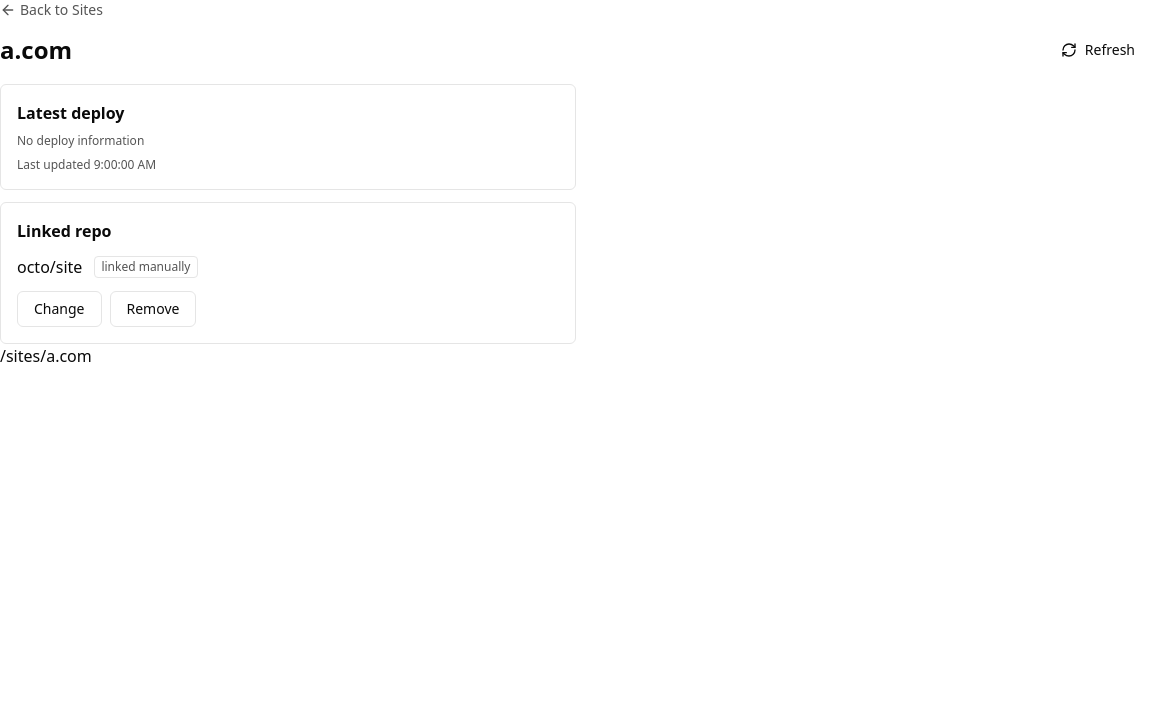
Scenario: SiteDetailPage › Remove asks first; "Keep link" removes nothing
Click the button "Remove" at x=153, y=309, box [110,291,196,327]
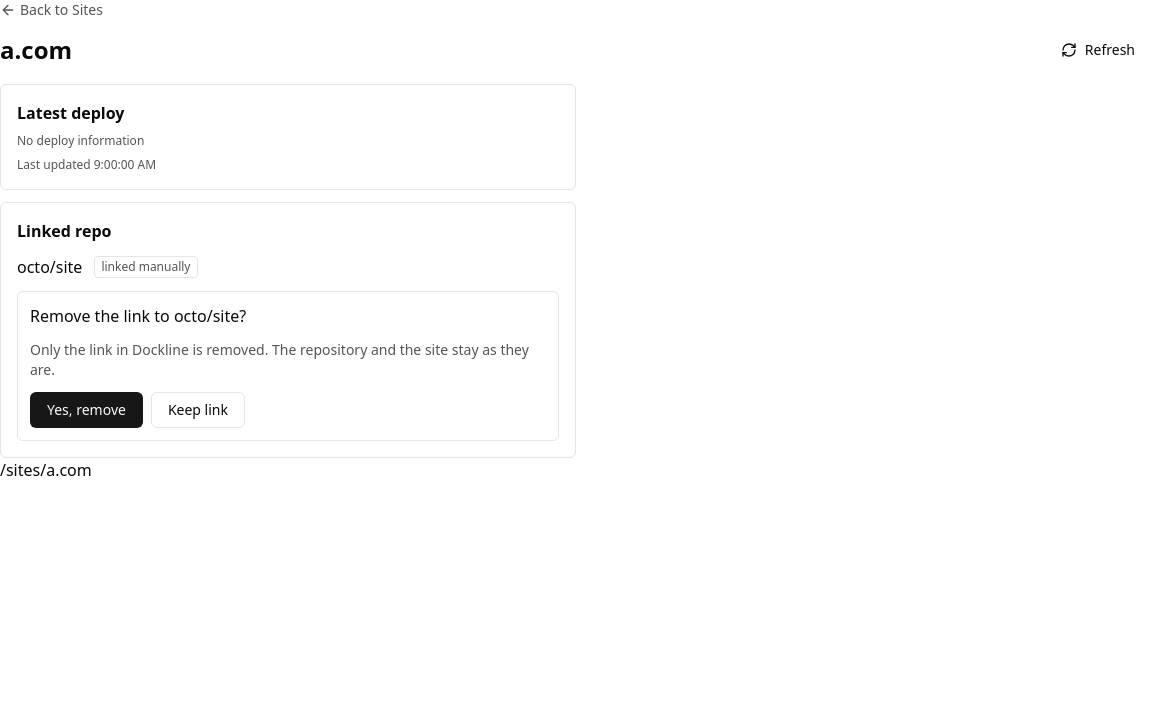
Expected: the dialog "Remove the link to octo/site?" is shown, [17,291,559,441]
Click the button "Keep link" at x=198, y=410, box [151,392,245,428]
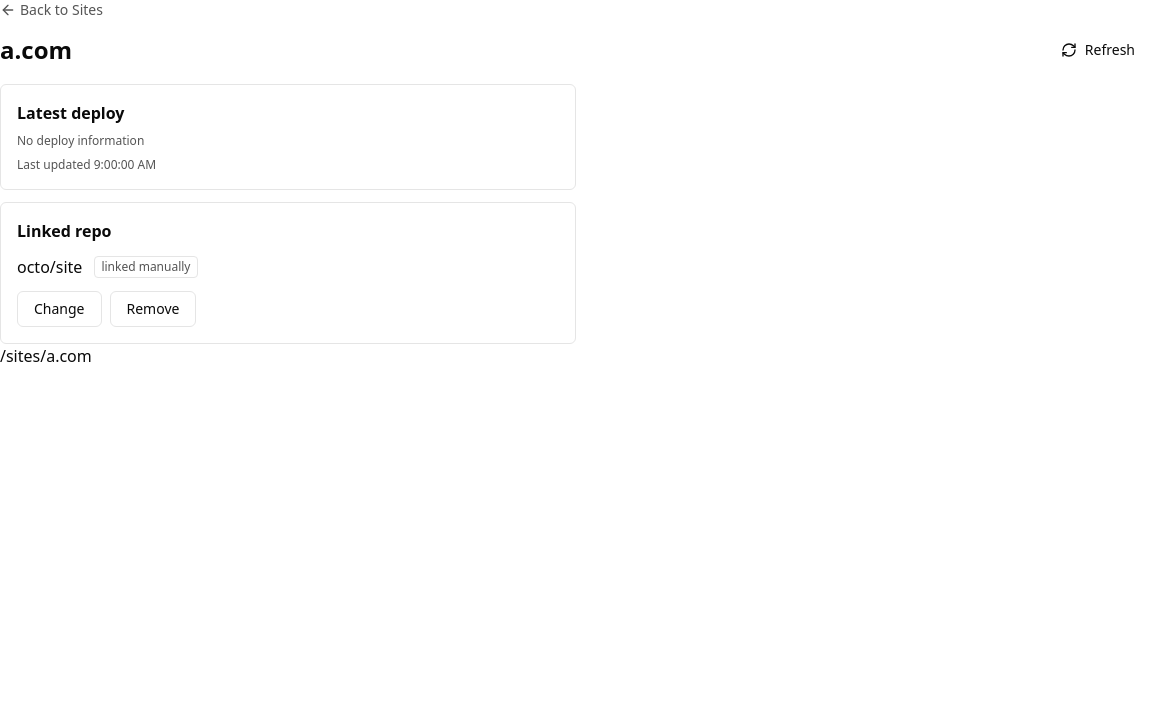
Expected: the button "octo/site" is shown, [17,255,82,279]
Expected: the dialog is gone
